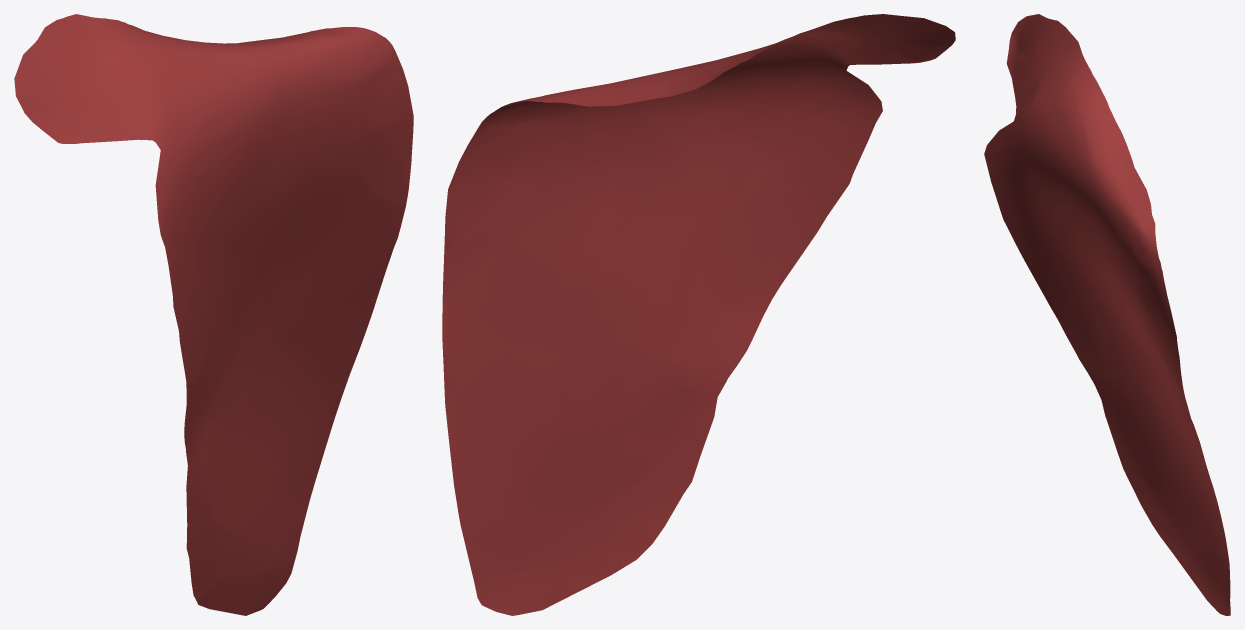
File: infraspinatus-muscle-or.glb
3 views of the same model, side by side, from view 1: azimuth 30°, elevation 25°; view 2: azimuth 150°, elevation 25°; view 3: azimuth 270°, elevation 25° (orthographic). The views are drawn at different scales.
Parts seen in each view (by area): view 1: Infraspinatus muscle.or; view 2: Infraspinatus muscle.or; view 3: Infraspinatus muscle.or.
Boxes of the visible parts, left/top/right/bottom form: Infraspinatus muscle.or: left=14, top=14, right=413, bottom=615; Infraspinatus muscle.or: left=442, top=14, right=955, bottom=615; Infraspinatus muscle.or: left=984, top=14, right=1230, bottom=615.
Bounding box in the file's own units: 0.0768 × 0.1065 × 0.0491.
